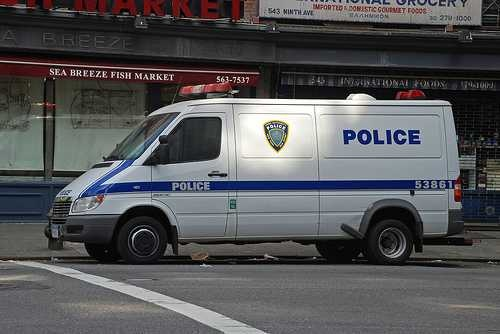Police Van: (37, 70, 481, 271)
